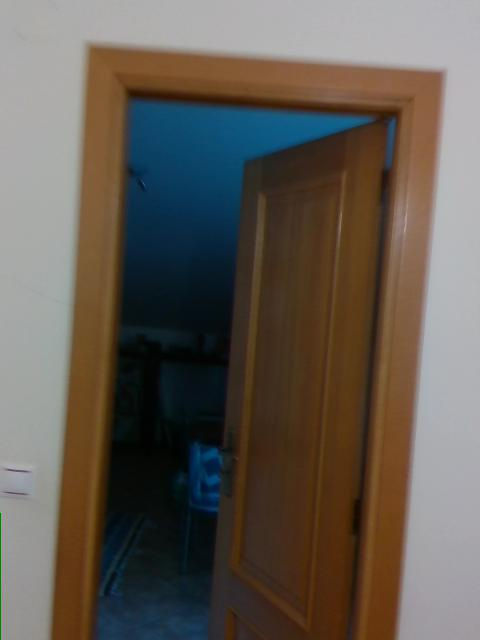semi_door: (49, 39, 449, 639)
